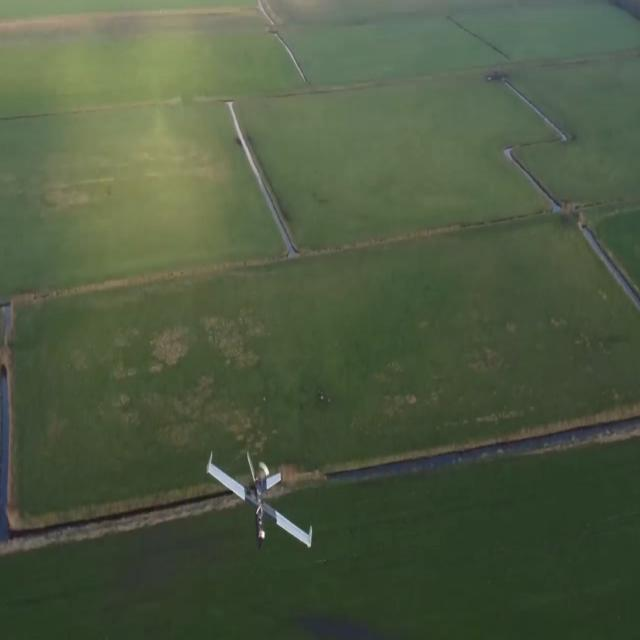iha: (238, 478, 282, 519)
